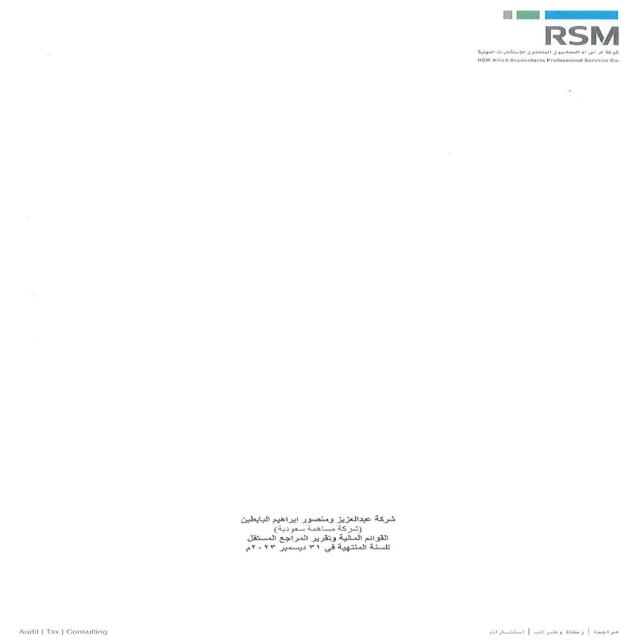other: (178, 479, 430, 575)
